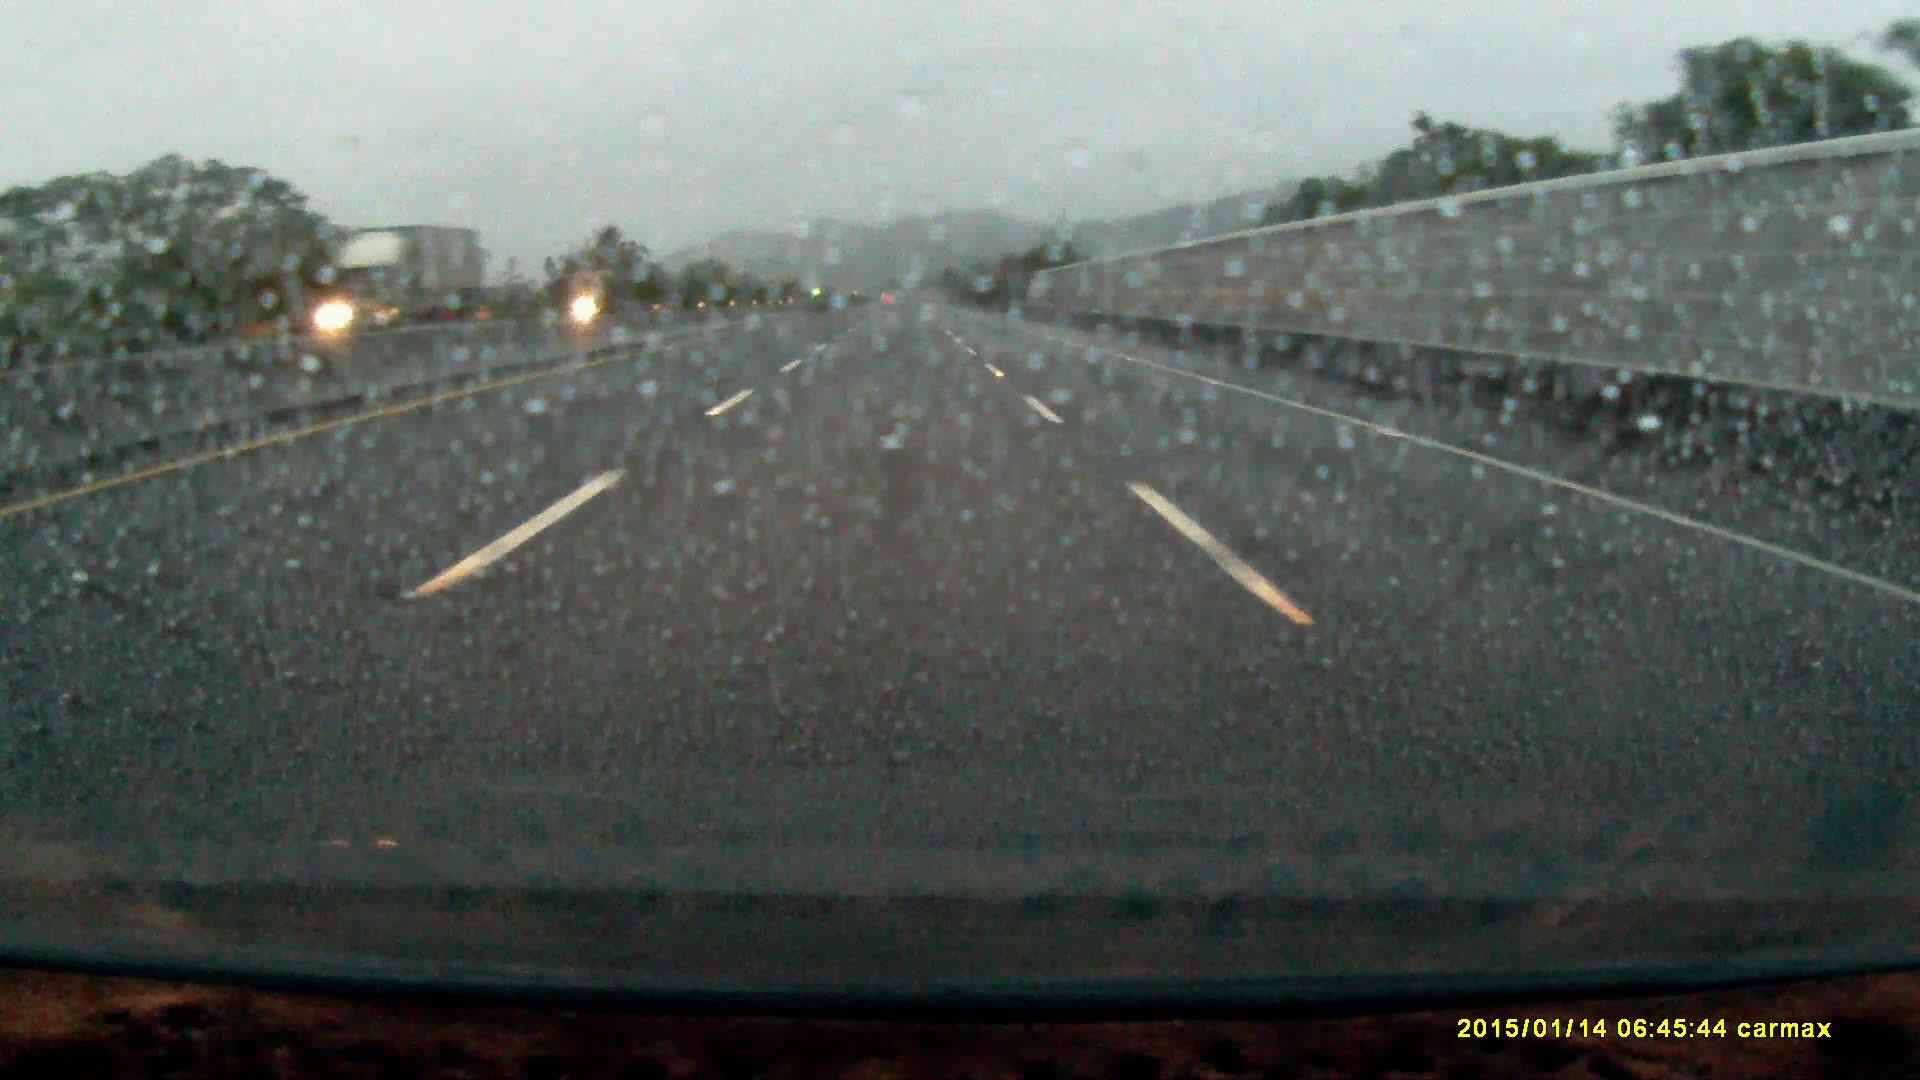vehicle: (305, 229, 484, 328)
